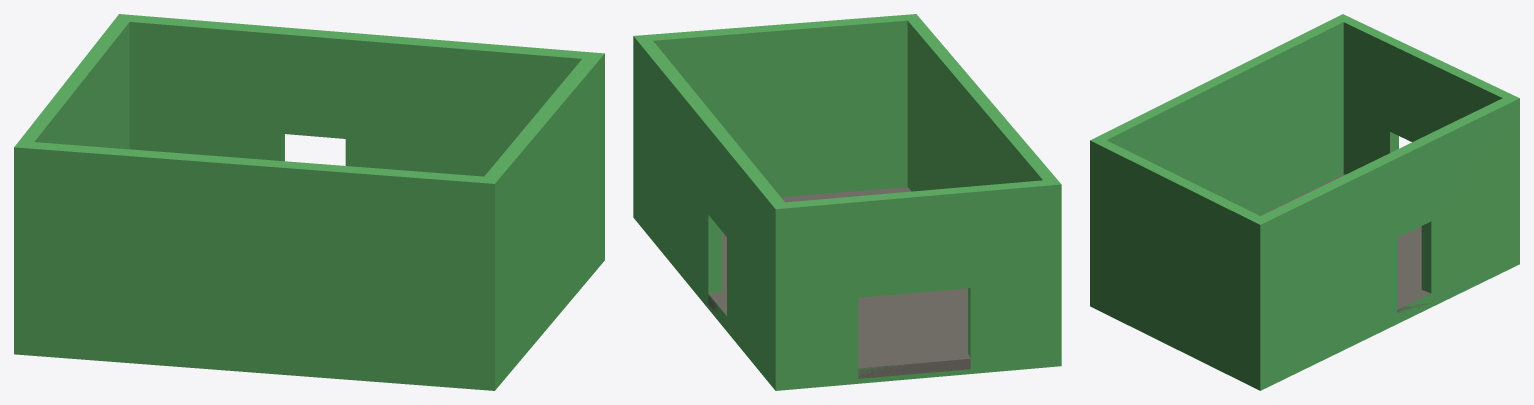
3 views of the same model, side by side, from view 1: azimuth 30°, elevation 25°; view 2: azimuth 150°, elevation 25°; view 3: azimuth 270°, elevation 25° (orthographic). The views are drawn at different scales.
Visible parts, largest first — view 1: Sala 2; view 2: Sala 2, Sala 2.001; view 3: Sala 2, Sala 2.001.
Part boxes in pixels (x1=…): Sala 2: x1=14, y1=14, x2=604, y2=390; Sala 2: x1=633, y1=14, x2=1061, y2=390; Sala 2.001: x1=708, y1=187, x2=970, y2=378; Sala 2: x1=1090, y1=14, x2=1519, y2=390; Sala 2.001: x1=1260, y1=174, x2=1430, y2=312.
Bounding box in the file's own units: 6602 × 2422 × 5684.
